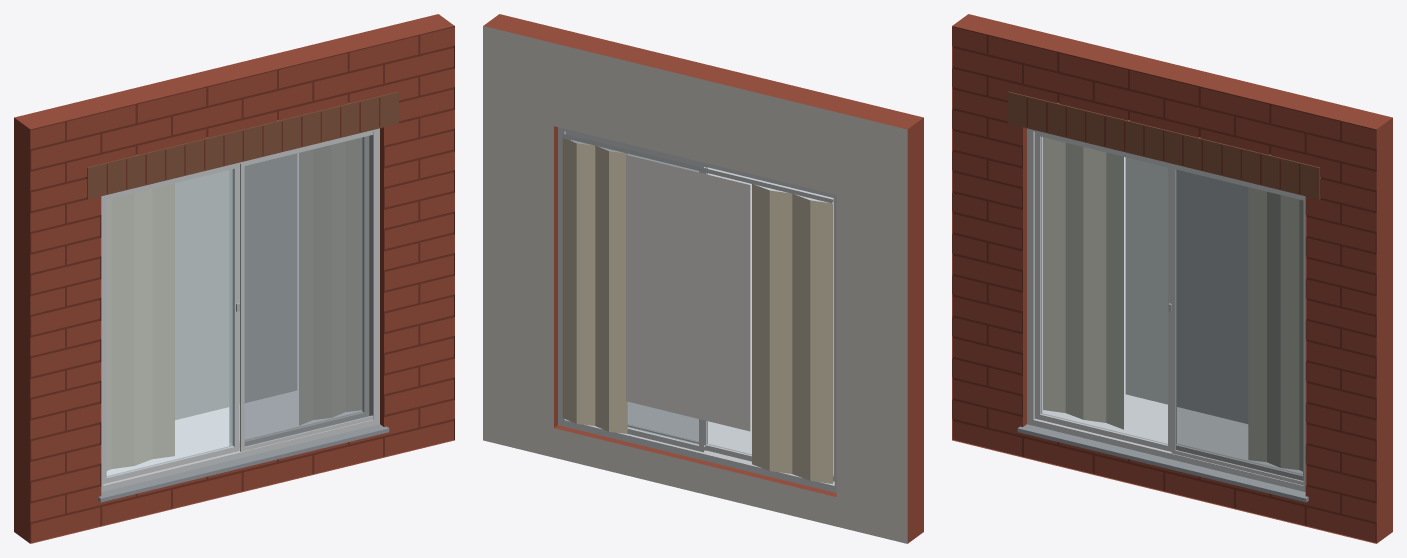
The model's file is SC_Bld_Villa_Wall_Brick_Door_Sliding_3m.gltf.
3 renders of one model, left to right at view 1: azimuth 30°, elevation 25°; view 2: azimuth 150°, elevation 25°; view 3: azimuth 330°, elevation 25°, orthographic.
Visible parts, largest first — view 1: SC_Bld_Villa_Wall_Brick_Door_Sliding_3m; view 2: SC_Bld_Villa_Wall_Brick_Door_Sliding_3m; view 3: SC_Bld_Villa_Wall_Brick_Door_Sliding_3m.
Boxes of the visible parts, x1,y1,x2,y2 form: SC_Bld_Villa_Wall_Brick_Door_Sliding_3m: (14, 14, 454, 543); SC_Bld_Villa_Wall_Brick_Door_Sliding_3m: (483, 14, 923, 543); SC_Bld_Villa_Wall_Brick_Door_Sliding_3m: (952, 14, 1392, 543).
Bounding box in the file's own units: 3 × 2.8 × 0.23.
2 materials, 2 textured.
